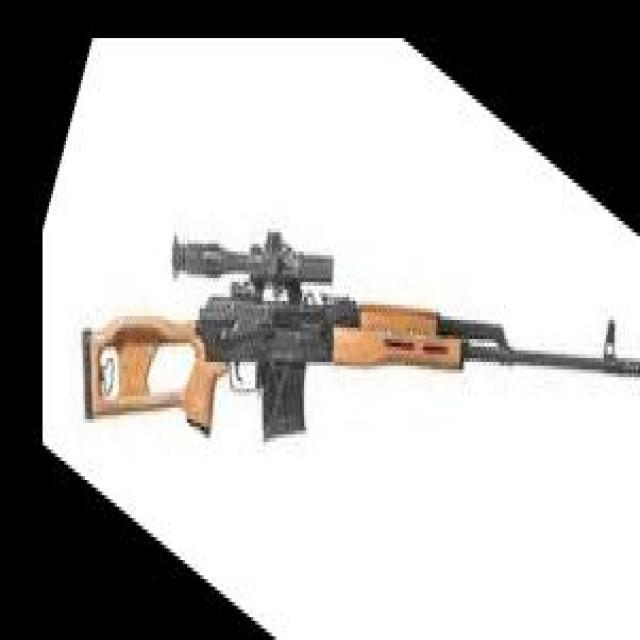weapon: (81, 230, 640, 446)
